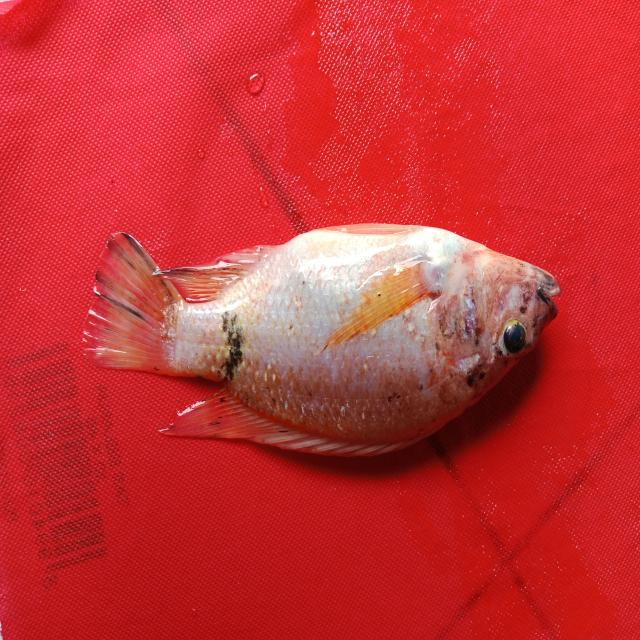ikan: (82, 220, 561, 458)
